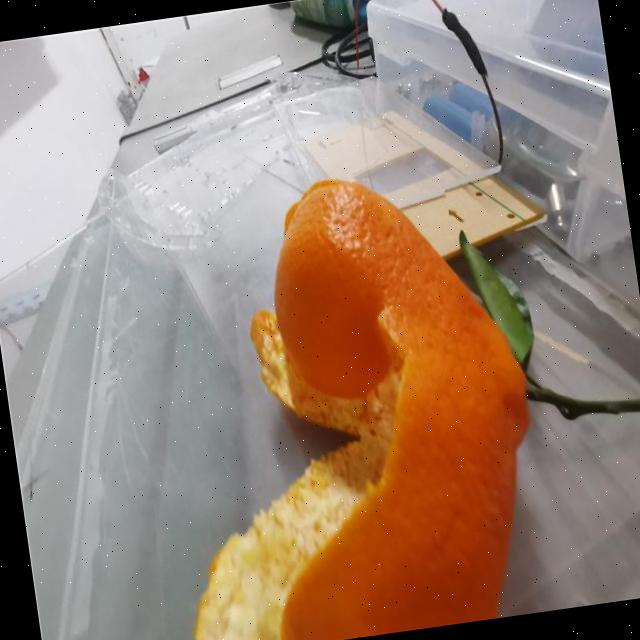orange-peel: (130, 153, 559, 640)
